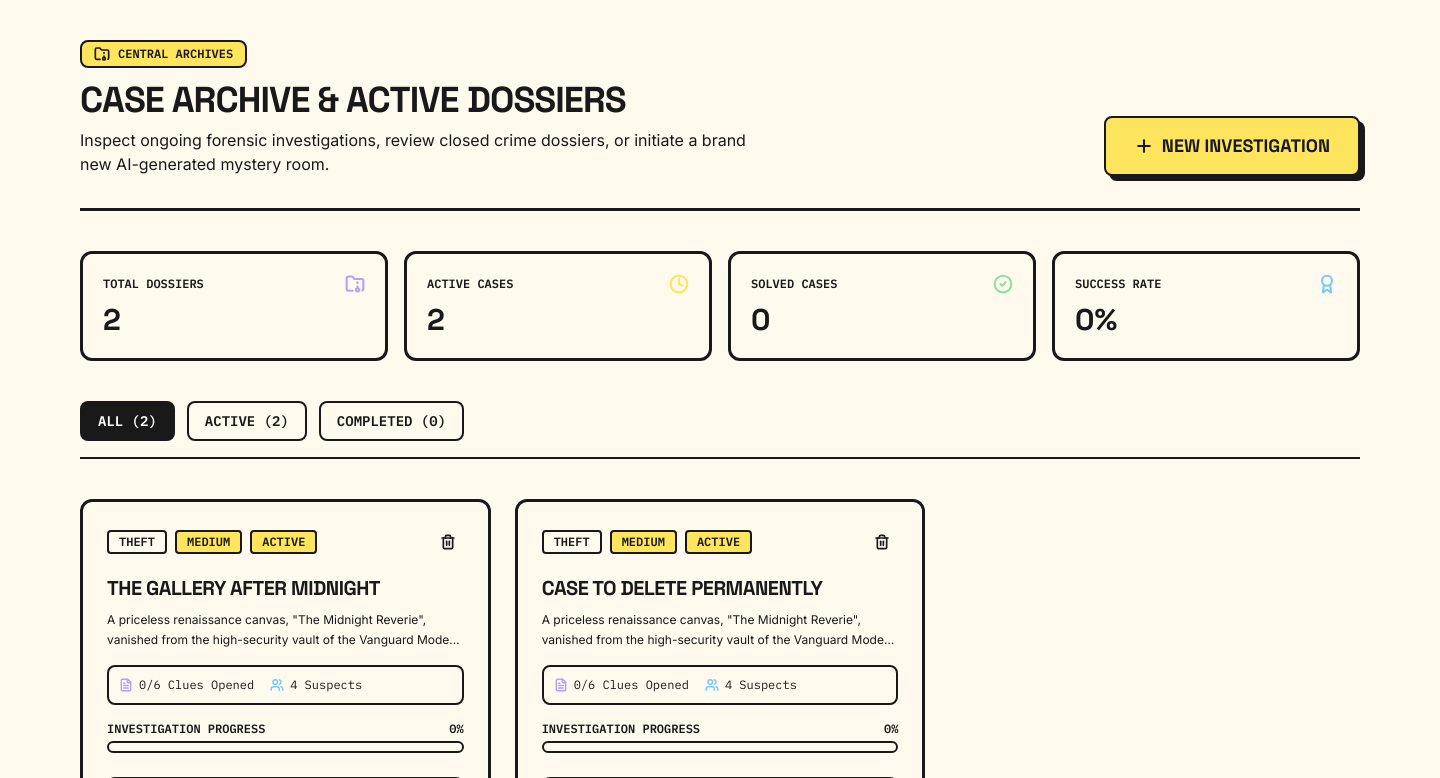
Scenario: DashboardPage Component › opens delete confirmation modal and cancels or deletes case
The image size is (1440, 778).
Expected: the heading "Case To Delete Permanently" is shown, top-left (542, 575), bottom-right (823, 601)
// Find delete button for "Case To Delete Permanently"
Click the 2nd button named "DELETE CASE" at (882, 542), box top-left (866, 526), bottom-right (898, 558)
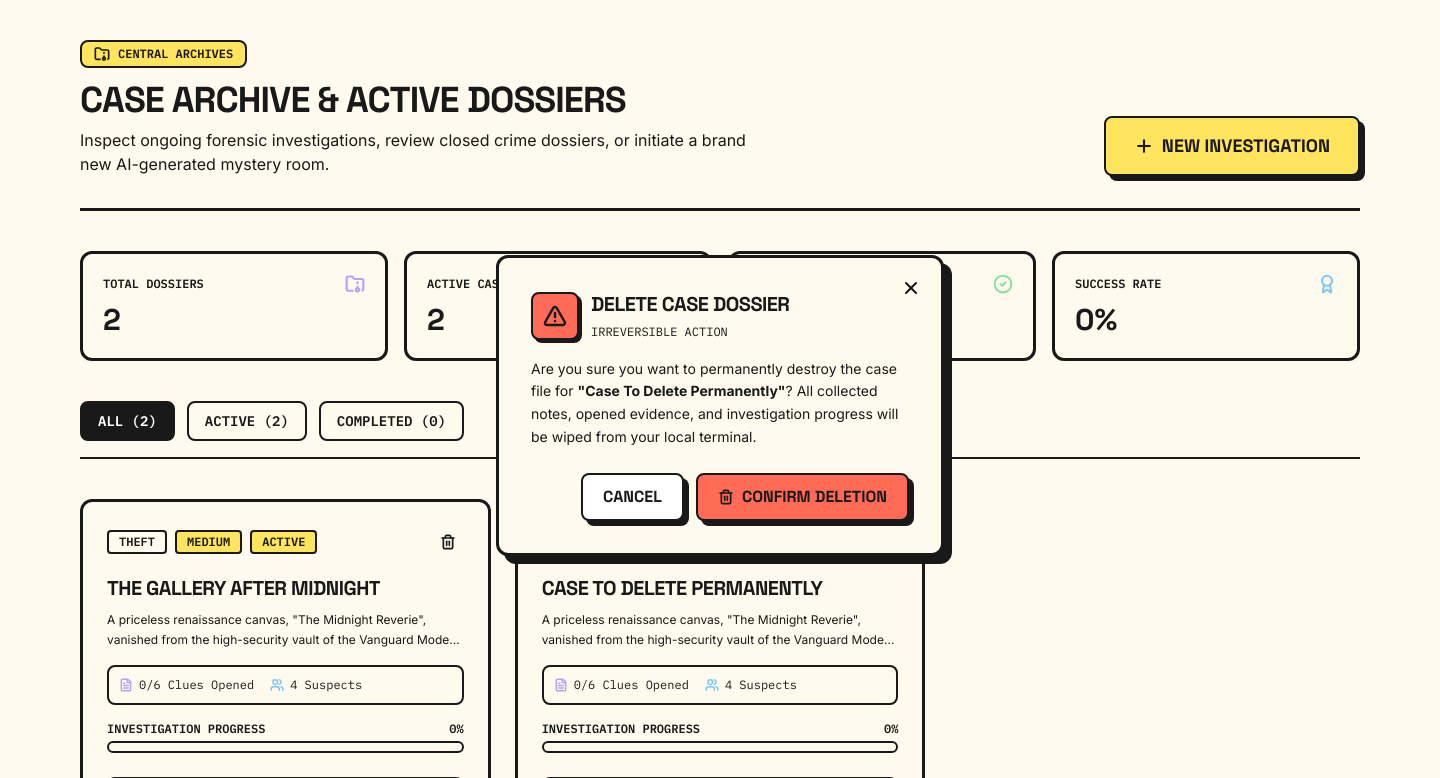
Expected: the dialog is shown, top-left (496, 254), bottom-right (944, 556)
Expected: the heading "DELETE CASE DOSSIER" is shown, top-left (591, 290), bottom-right (790, 318)
Expected: the text "\"Case To Delete Permanently\"" is shown, top-left (577, 382), bottom-right (786, 399)
// Click confirm delete
Click the button "CONFIRM DELETION" at (802, 496), box top-left (696, 472), bottom-right (909, 520)
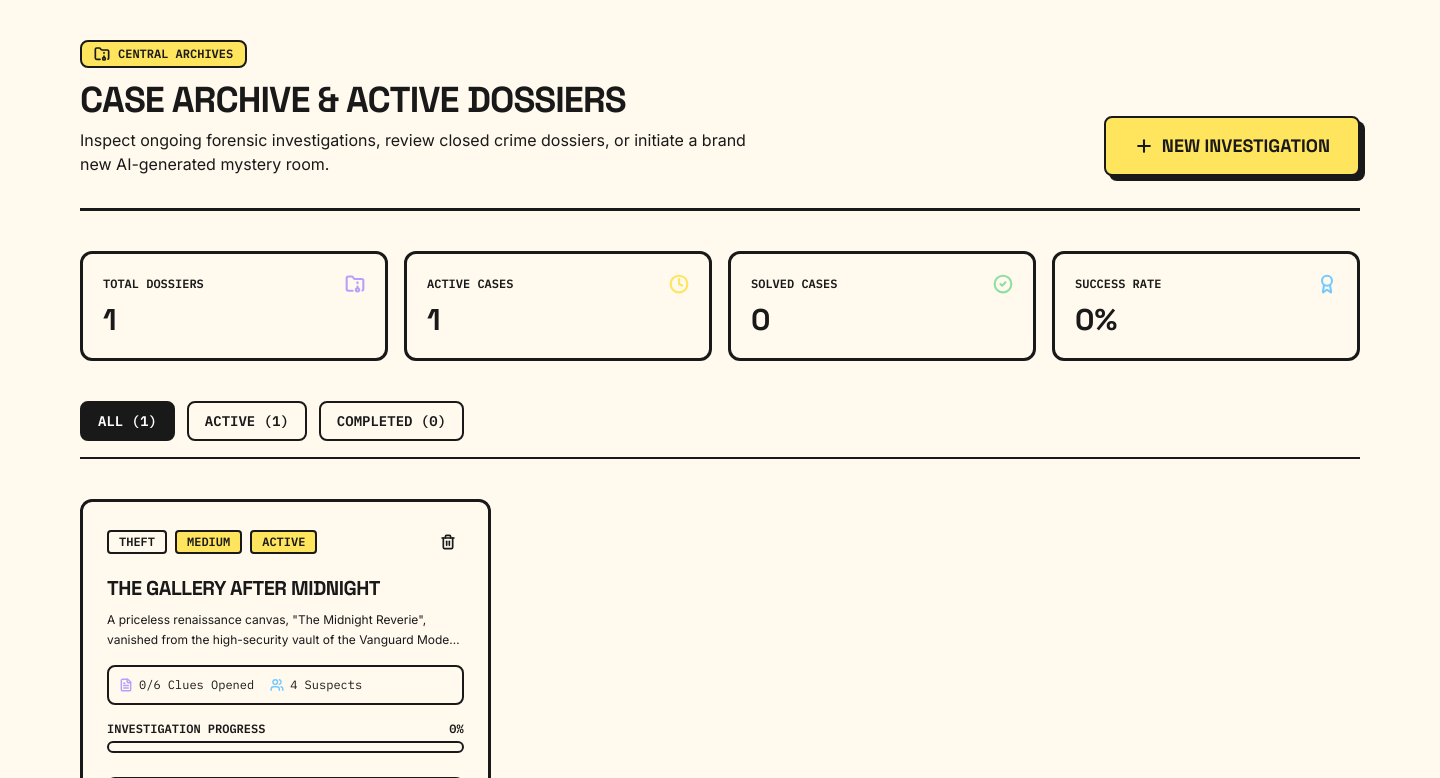
Expected: the heading "The Gallery After Midnight" is shown, top-left (107, 575), bottom-right (380, 601)
Expected: the heading "Case To Delete Permanently" is gone
